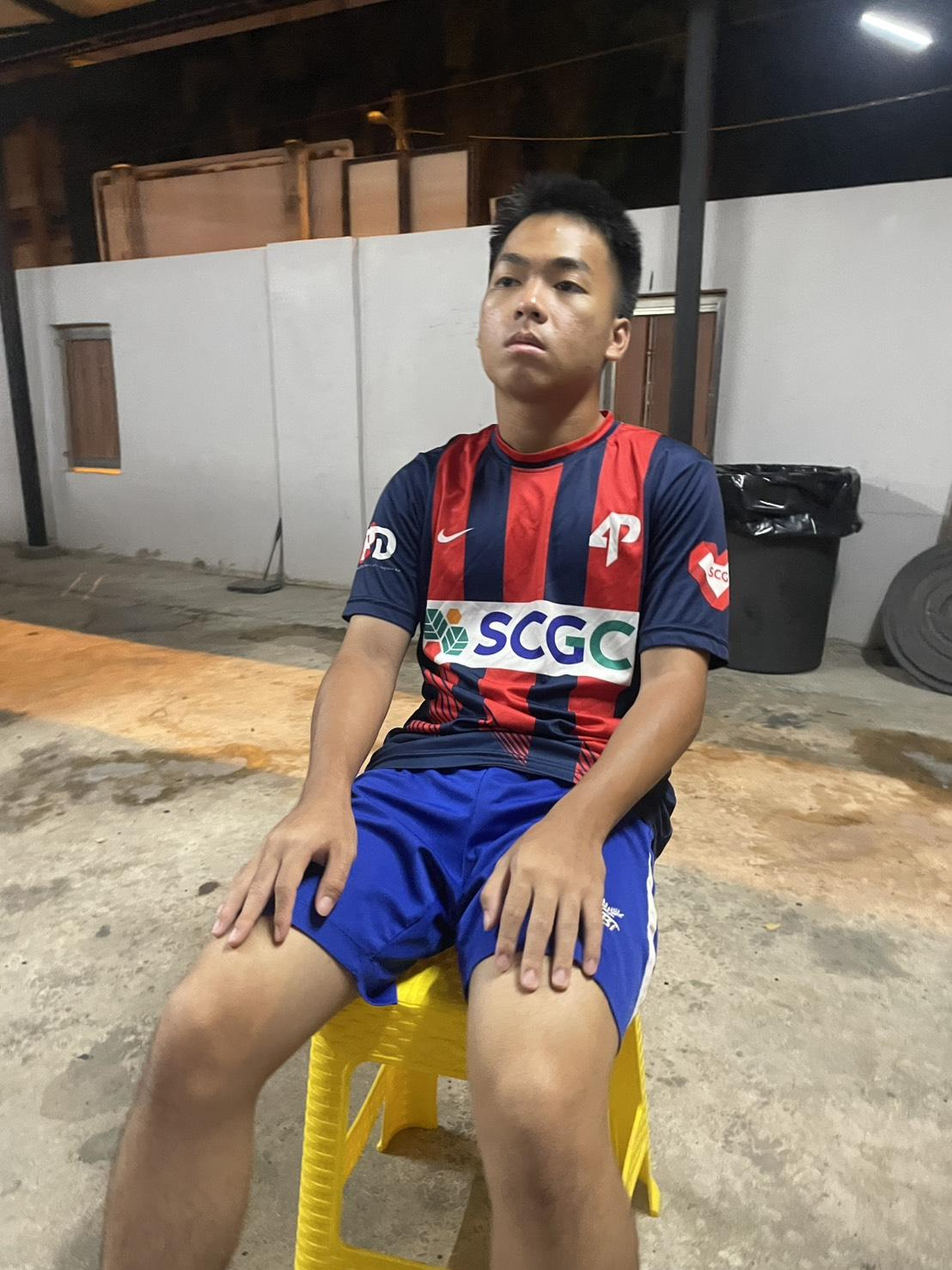BadPosture: (101, 175, 729, 1269)
